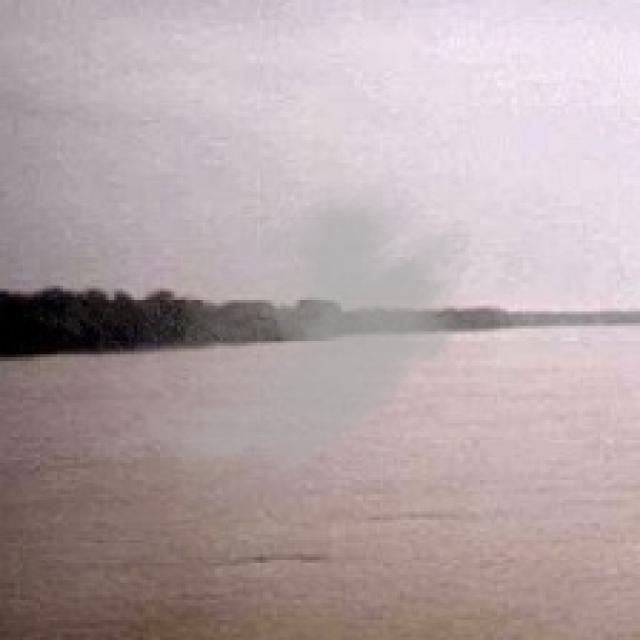smoke: (88, 163, 486, 514)
